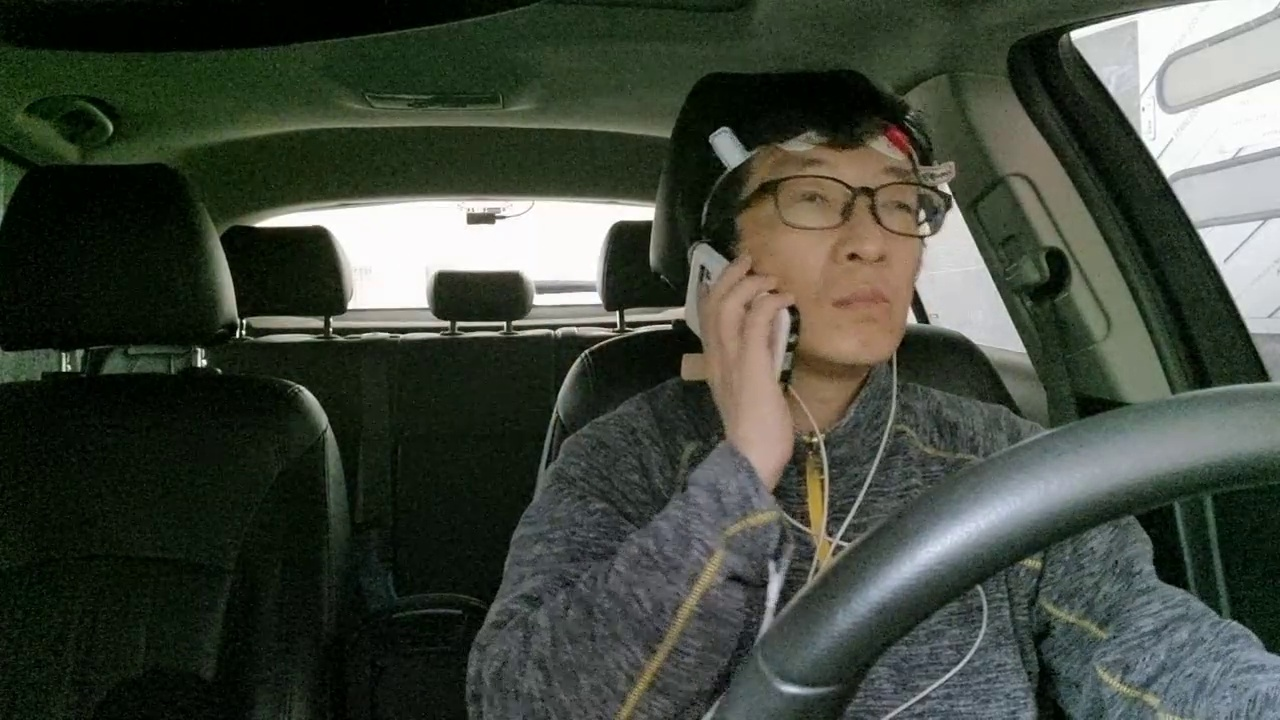phone: (647, 223, 841, 404)
